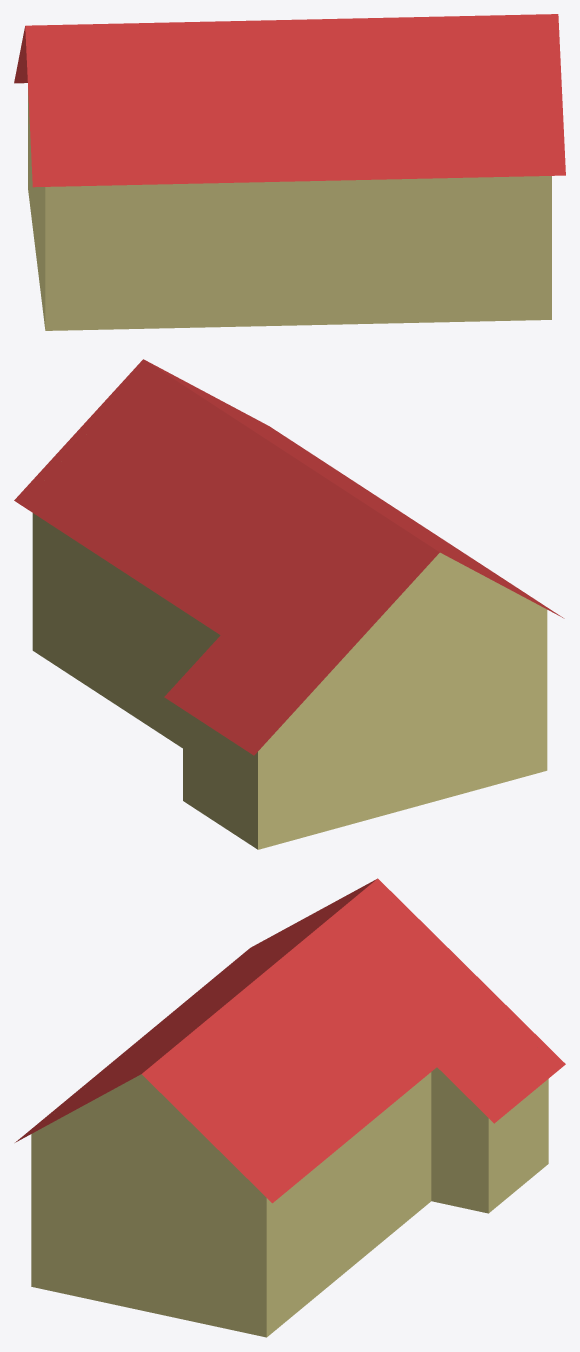
The picture shows the model from 3 angles, top to bottom: view 1: azimuth 30°, elevation 25°; view 2: azimuth 150°, elevation 25°; view 3: azimuth 270°, elevation 25°; orthographic projection. The views are drawn at different scales.
Bounding box in the file's own units: 34.47 × 31.98 × 15.51.
